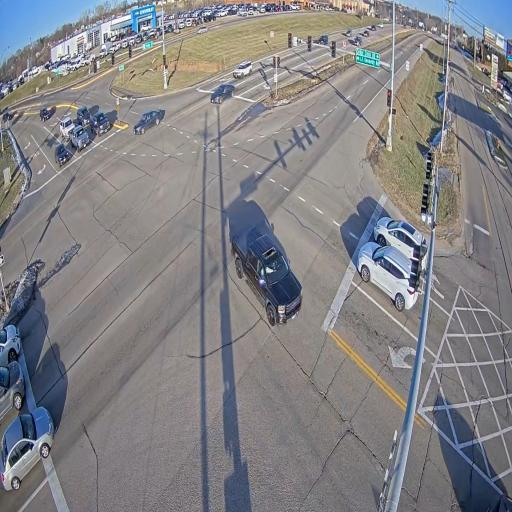pickup: (230, 225, 302, 326), (71, 125, 90, 152), (91, 111, 110, 136), (60, 116, 75, 141)
sedan: (0, 406, 55, 490), (134, 110, 165, 135), (211, 83, 235, 104), (55, 142, 72, 167), (354, 35, 363, 46), (197, 26, 208, 34), (363, 30, 369, 37)
suv: (357, 242, 422, 311), (374, 217, 428, 263), (0, 360, 25, 422), (0, 324, 21, 366), (233, 60, 252, 78), (77, 106, 91, 128), (313, 34, 328, 44), (39, 108, 50, 121), (3, 111, 13, 122), (345, 29, 352, 37), (371, 24, 376, 30), (377, 22, 383, 27)
